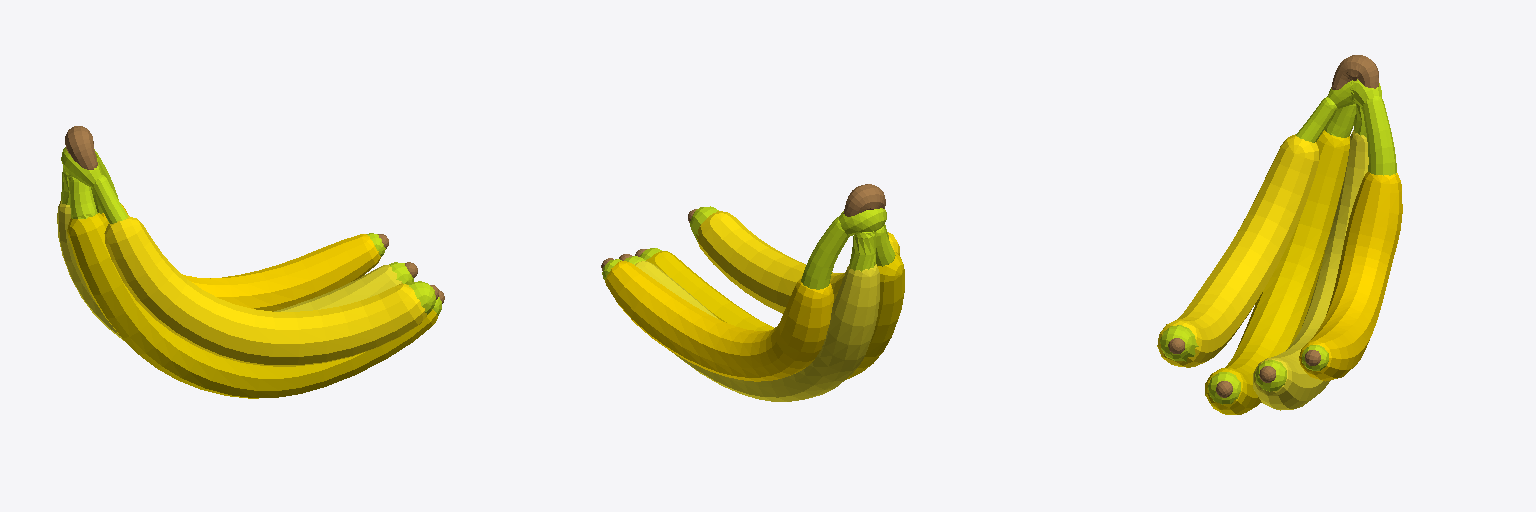
Rendered from banana.obj.
The picture shows the model from 3 angles: view 1: azimuth 30°, elevation 25°; view 2: azimuth 150°, elevation 25°; view 3: azimuth 270°, elevation 25°; orthographic projection.
Visible parts, largest first — view 1: i0004.87733, i0003.27913, i0000.41584, i0002.74848, i0018.03332, i0015.76710, i0016.45200, i0017.10920; view 2: i0000.41584, i0002.74848, i0004.87733, i0003.27913, i0012.75602, i0018.03332, i0017.10920, i0013.38443, i0015.76710; view 3: i0004.87733, i0003.27913, i0000.41584, i0002.74848, i0012.75602, i0018.03332, i0017.10920, i0016.45200, i0005.68236, i0015.76710, i0008.65798, i0010.40478.
Boxes of the visible parts, x1=… form: i0004.87733: x1=104, y1=216, x2=426, y2=366; i0003.27913: x1=67, y1=213, x2=437, y2=398; i0000.41584: x1=101, y1=204, x2=380, y2=311; i0002.74848: x1=57, y1=201, x2=401, y2=340; i0018.03332: x1=65, y1=126, x2=97, y2=169; i0015.76710: x1=69, y1=176, x2=97, y2=218; i0016.45200: x1=93, y1=175, x2=128, y2=223; i0017.10920: x1=61, y1=147, x2=101, y2=188; i0000.41584: x1=605, y1=261, x2=833, y2=381; i0002.74848: x1=635, y1=261, x2=879, y2=401; i0004.87733: x1=696, y1=211, x2=899, y2=313; i0003.27913: x1=646, y1=251, x2=904, y2=379; i0012.75602: x1=801, y1=217, x2=849, y2=289; i0018.03332: x1=843, y1=184, x2=885, y2=216; i0017.10920: x1=839, y1=208, x2=886, y2=235; i0013.38443: x1=849, y1=231, x2=875, y2=271; i0015.76710: x1=875, y1=226, x2=895, y2=266; i0004.87733: x1=1157, y1=134, x2=1319, y2=367; i0003.27913: x1=1205, y1=130, x2=1349, y2=414; i0000.41584: x1=1299, y1=172, x2=1402, y2=381; i0002.74848: x1=1253, y1=130, x2=1368, y2=410; i0012.75602: x1=1362, y1=95, x2=1396, y2=175; i0018.03332: x1=1331, y1=55, x2=1378, y2=89; i0017.10920: x1=1327, y1=79, x2=1381, y2=108; i0016.45200: x1=1296, y1=97, x2=1337, y2=142; i0005.68236: x1=1160, y1=325, x2=1198, y2=361; i0015.76710: x1=1324, y1=104, x2=1355, y2=137; i0008.65798: x1=1208, y1=372, x2=1240, y2=404; i0010.40478: x1=1255, y1=360, x2=1286, y2=391.
Bounding box in the file's own units: 0.3536 × 0.2803 × 0.2349.